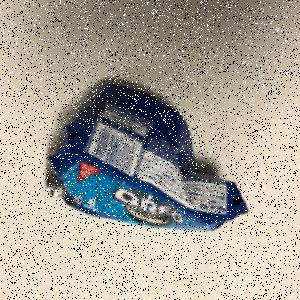Trash: (46, 82, 250, 232)
